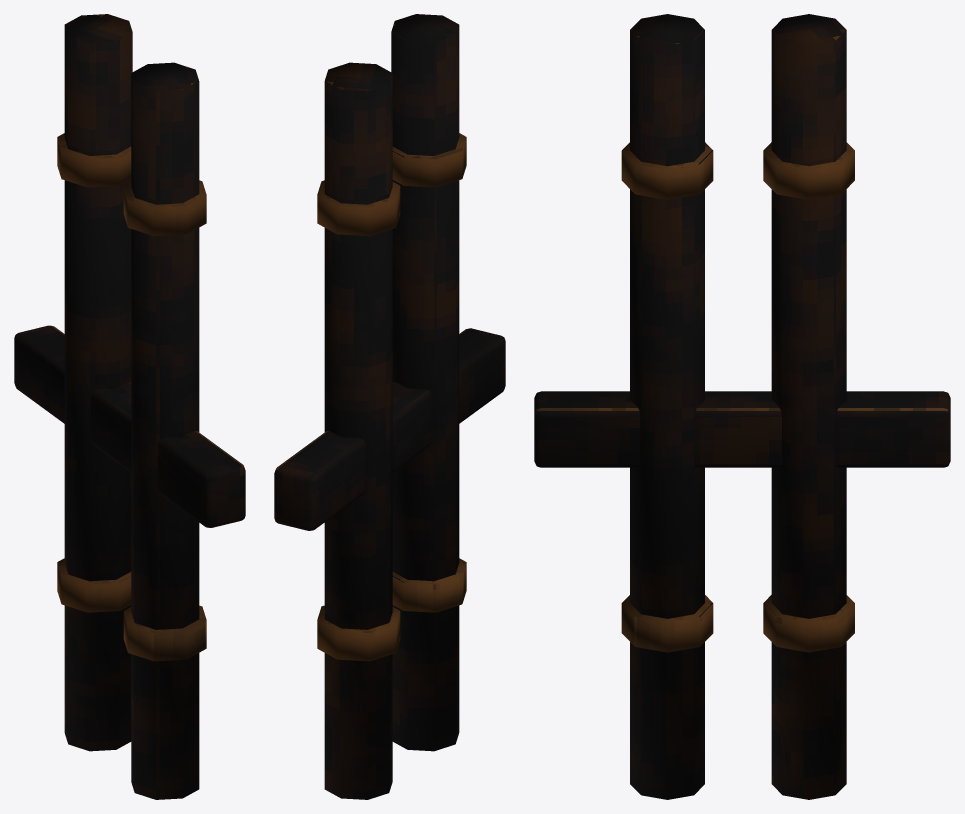
File: mine_bars_side.obj
3 views of the same model, side by side, from view 1: azimuth 30°, elevation 25°; view 2: azimuth 150°, elevation 25°; view 3: azimuth 270°, elevation 25° (orthographic). The views are drawn at different scales.
Visible parts, largest first — view 1: part0, part1; view 2: part0, part1; view 3: part0, part1.
Boxes of the visible parts, <box> form: part0: <box>14,14,245,799</box>; part1: <box>57,133,206,661</box>; part0: <box>274,14,505,799</box>; part1: <box>317,133,466,661</box>; part0: <box>534,14,950,799</box>; part1: <box>621,142,854,652</box>.
Size of the model in its own units: 0.11 by 1 by 0.5.
